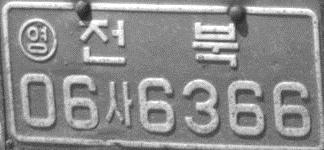0: (18, 72, 56, 127)
3: (182, 77, 219, 135)
6: (227, 79, 265, 137), (62, 73, 101, 129), (272, 81, 311, 137), (137, 76, 175, 133)
사: (104, 80, 133, 127)
영: (18, 16, 58, 62)
전북_D: (76, 19, 238, 68)
